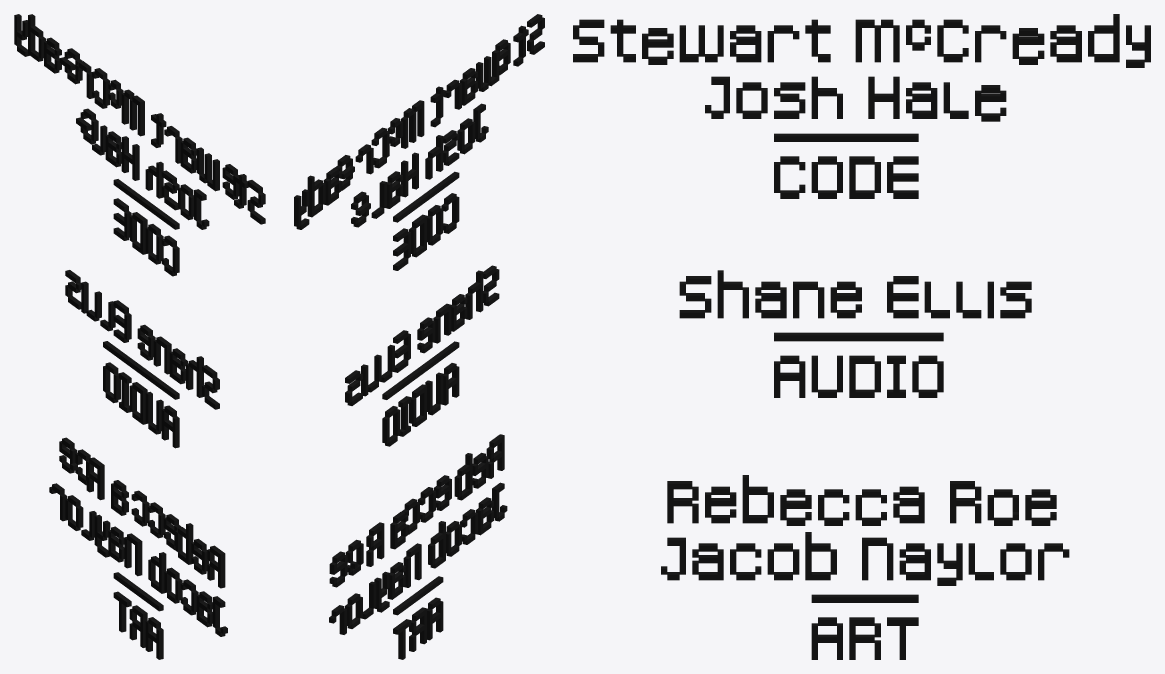
The model's file is Credits.obj.
3 views of the same model, side by side, from view 1: azimuth 30°, elevation 25°; view 2: azimuth 150°, elevation 25°; view 3: azimuth 270°, elevation 25° (orthographic). The views are drawn at different scales.
Size of the model in its own units: 2 by 113 by 92.
